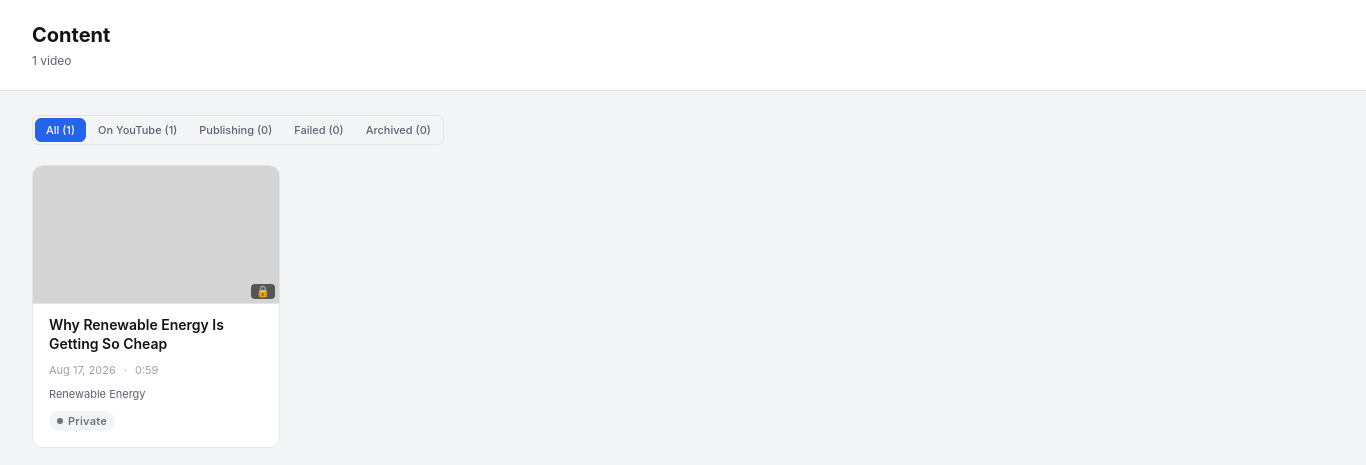
Content › lifecycle filtering › shows an honest empty state for a filter with no matches
Expected: the text "Why Renewable Energy Is Getting So Cheap" is shown, [49,316,224,352]
Click the tab "Failed (0)".
click(319, 130)  # box [284,118,354,142]
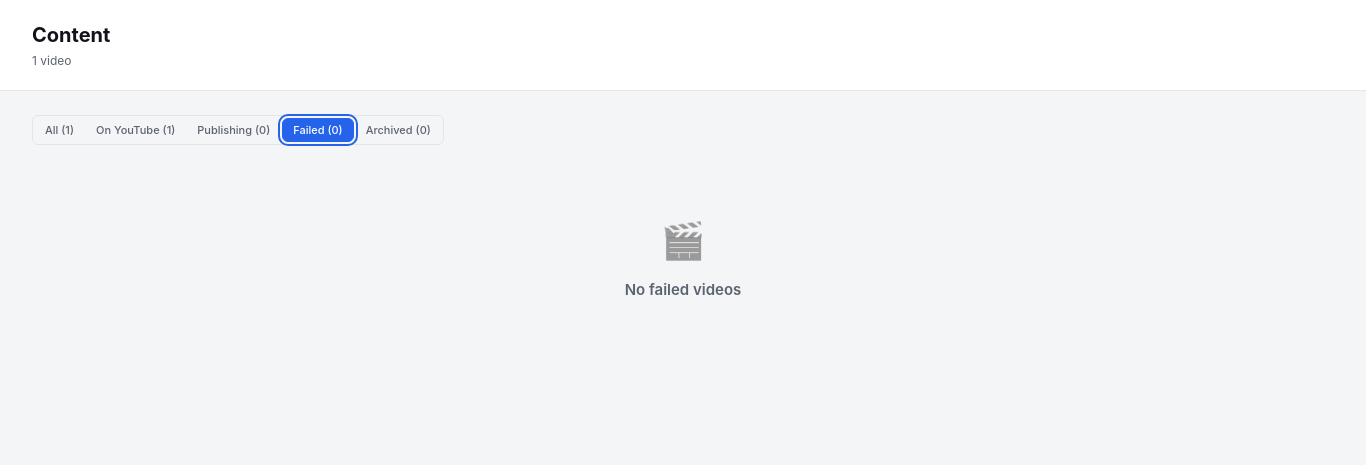
Now the text "No failed videos" is shown, box [625,280,741,299]
